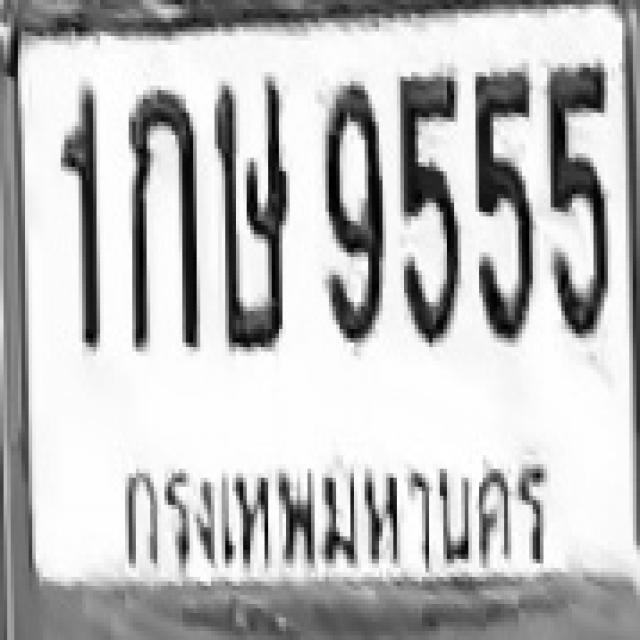1: (57, 86, 100, 320)
10GorGai: (125, 86, 197, 352)
5: (545, 63, 610, 338), (398, 74, 459, 345), (474, 70, 534, 340), (472, 68, 533, 293), (545, 61, 606, 228), (472, 68, 533, 234)
9: (322, 79, 382, 345)
